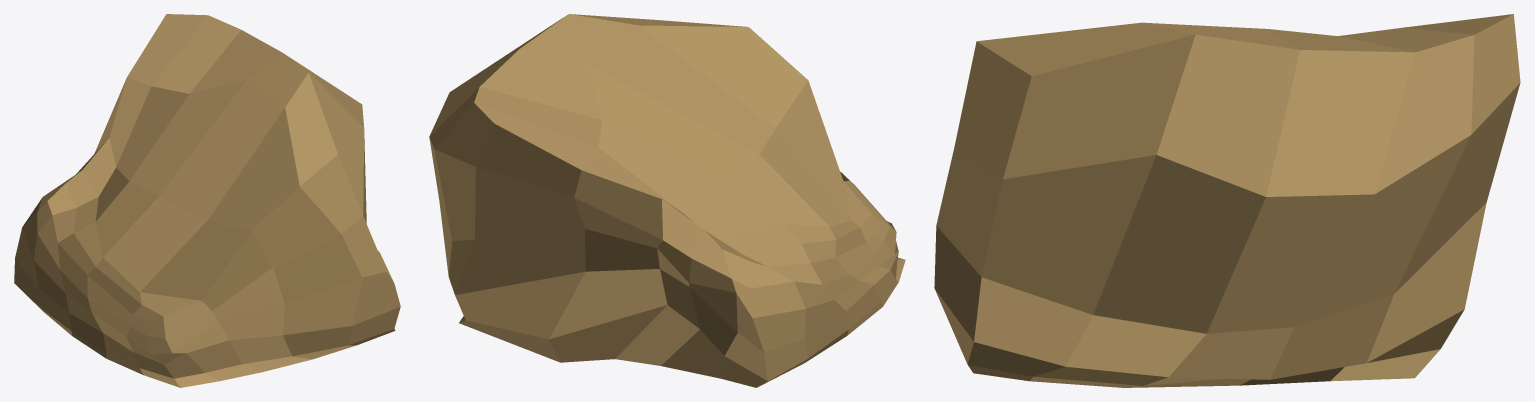
The model's file is Stone2.fbx.
3 renders of one model, left to right at view 1: azimuth 30°, elevation 25°; view 2: azimuth 150°, elevation 25°; view 3: azimuth 270°, elevation 25°, orthographic. The views are drawn at different scales.
Parts seen in each view (by area): view 1: Stone2; view 2: Stone2; view 3: Stone2.
Part boxes in pixels (x1,y1,x2,y2): Stone2: (14,14,400,387); Stone2: (429,14,905,387); Stone2: (934,14,1520,387).
Size of the model in its own units: 459 by 309 by 479.
